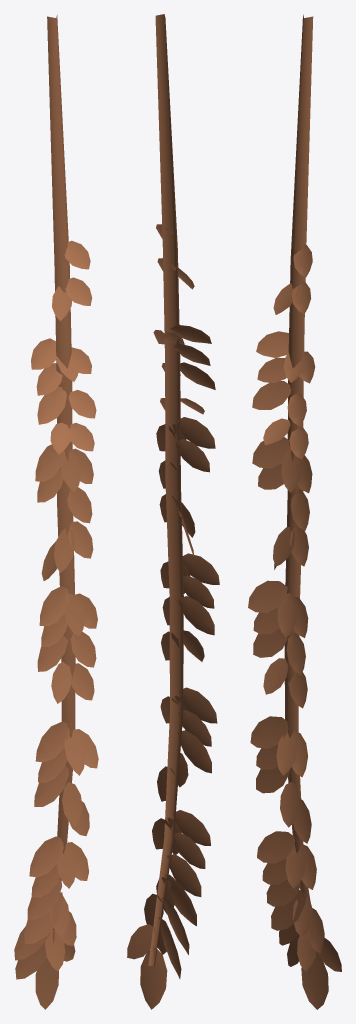
Rendered from HangingLeavesLong.fbx.
3 views of the same model, side by side, from view 1: azimuth 30°, elevation 25°; view 2: azimuth 150°, elevation 25°; view 3: azimuth 330°, elevation 25° (orthographic).
Visible parts, largest first — view 1: hanging_vine1; view 2: hanging_vine1; view 3: hanging_vine1.
Part boxes in pixels (bbox=[...]): hanging_vine1: bbox=[14, 14, 98, 1009]; hanging_vine1: bbox=[127, 14, 219, 1009]; hanging_vine1: bbox=[248, 14, 341, 1009].
Bounding box in the file's own units: 0.4281 × 6.26 × 0.4015.
